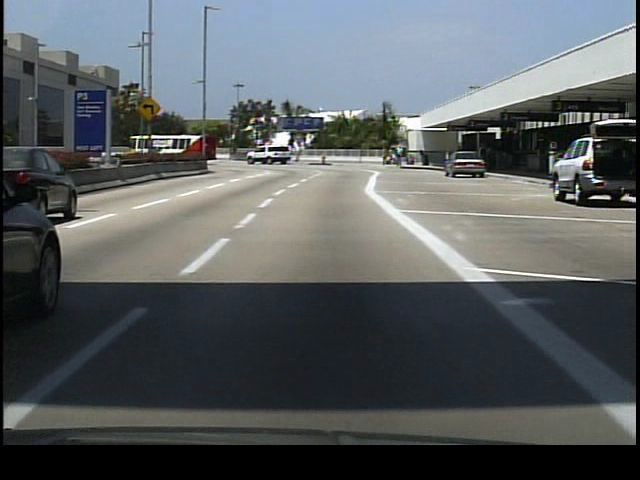person: (478, 149, 493, 180), (395, 145, 405, 174)
